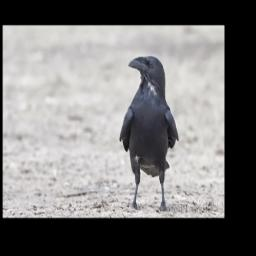Crow: (118, 55, 180, 213)
